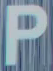Parking: (3, 1, 47, 64)
